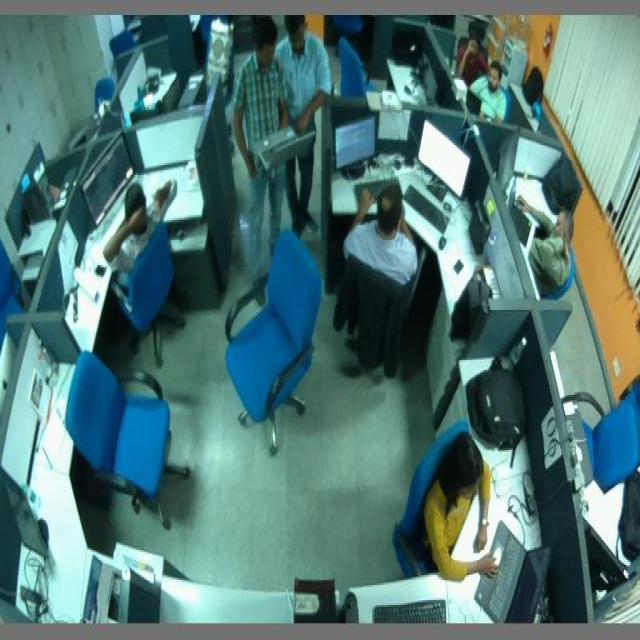chair: (64, 347, 192, 531), (224, 238, 325, 457), (391, 414, 470, 584), (114, 224, 188, 354), (577, 375, 639, 490), (403, 176, 451, 236), (336, 34, 376, 104), (1, 237, 23, 355), (555, 238, 579, 308), (88, 77, 115, 103), (105, 32, 137, 53), (337, 17, 366, 35)
keyboard: (371, 599, 448, 623)
laptop: (473, 516, 551, 622), (253, 128, 320, 168), (510, 172, 532, 256)
monitor: (78, 130, 140, 218), (418, 113, 472, 202), (586, 512, 632, 602), (5, 481, 54, 564), (332, 116, 386, 179), (516, 128, 566, 185), (496, 128, 515, 198)
person: (234, 12, 292, 308), (274, 13, 330, 242), (426, 432, 502, 580), (104, 177, 180, 290), (344, 183, 422, 285), (516, 197, 575, 295), (471, 59, 507, 119), (456, 37, 488, 88)
phone: (454, 254, 464, 278), (91, 263, 108, 277)
